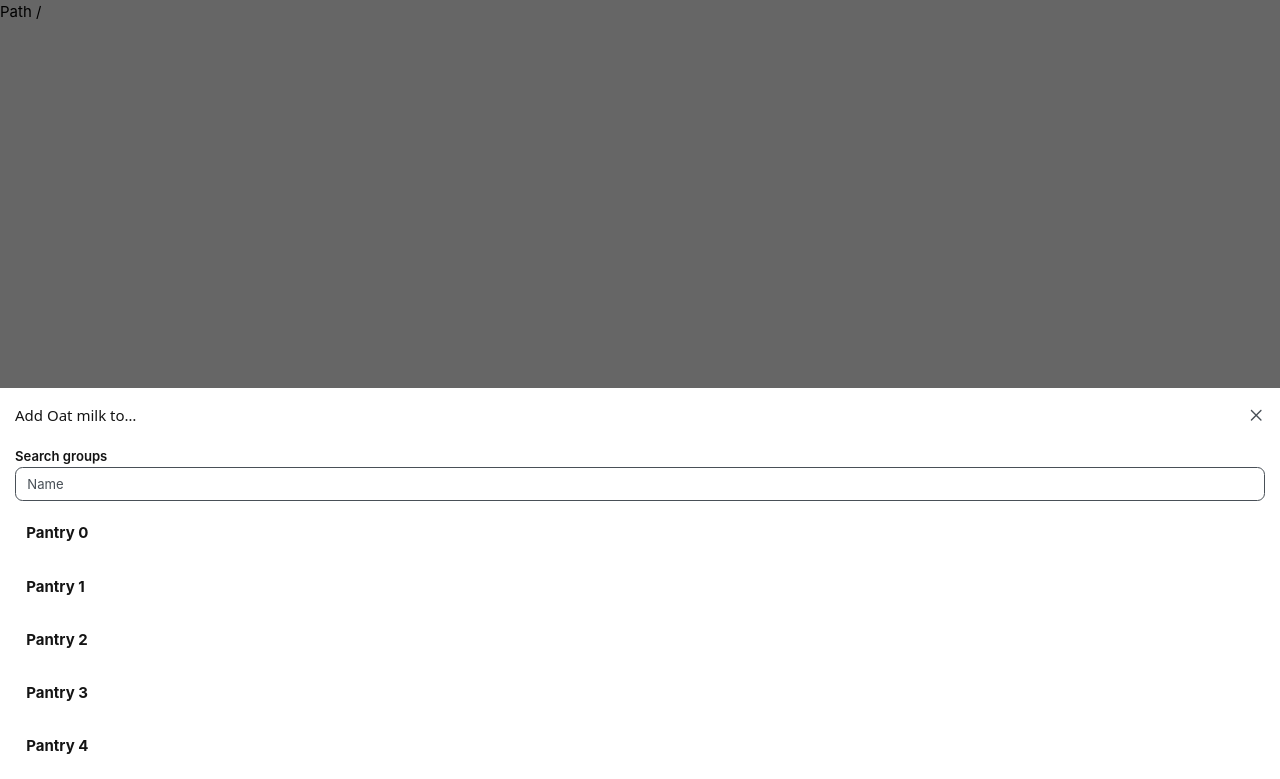
Test: AddToGroupSheet › filters the group list
The image size is (1280, 779).
Type "zuc" into the field labelled "Search groups" at (640, 484), box [15, 467, 1265, 501]
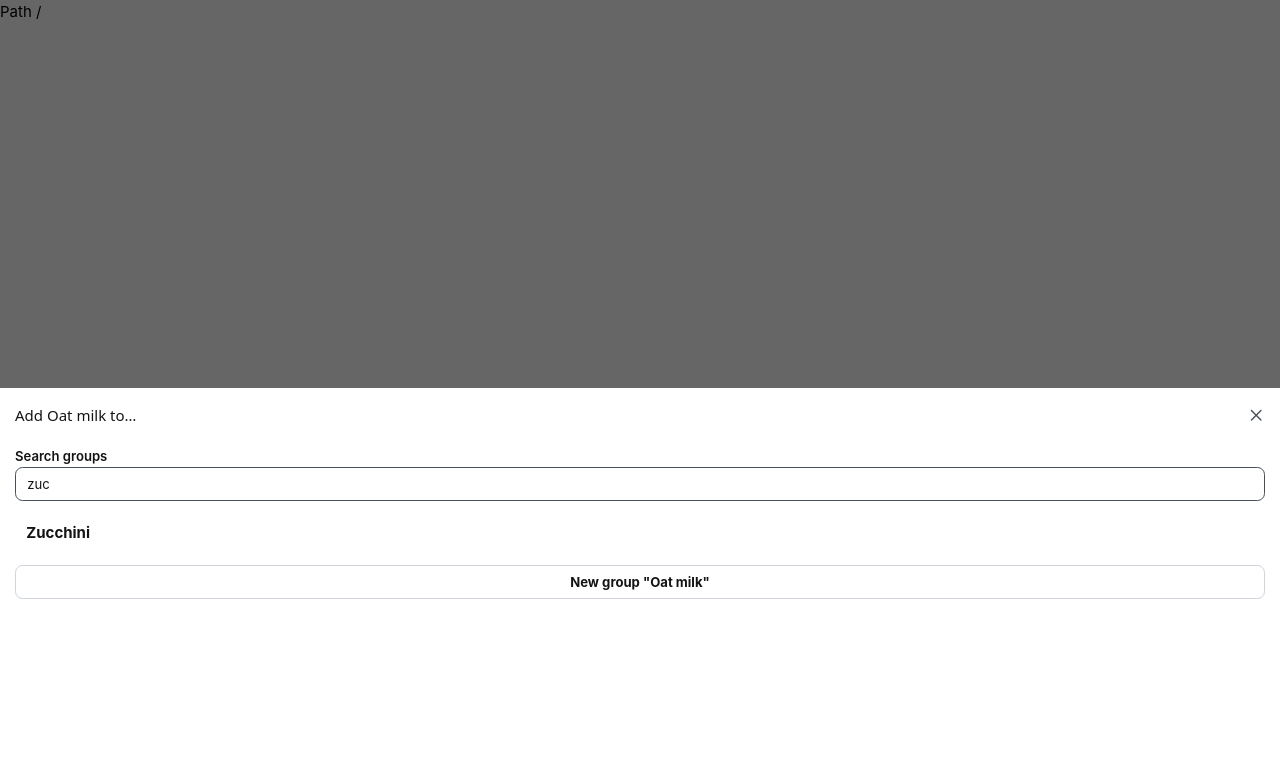
expect the button "Zucchini" is shown: met, box [15, 512, 1265, 554]
expect the button "Pantry 0" is gone: met
Replace the text in the field labelled "Search groups" with "missing" at (640, 484), box [15, 467, 1265, 501]
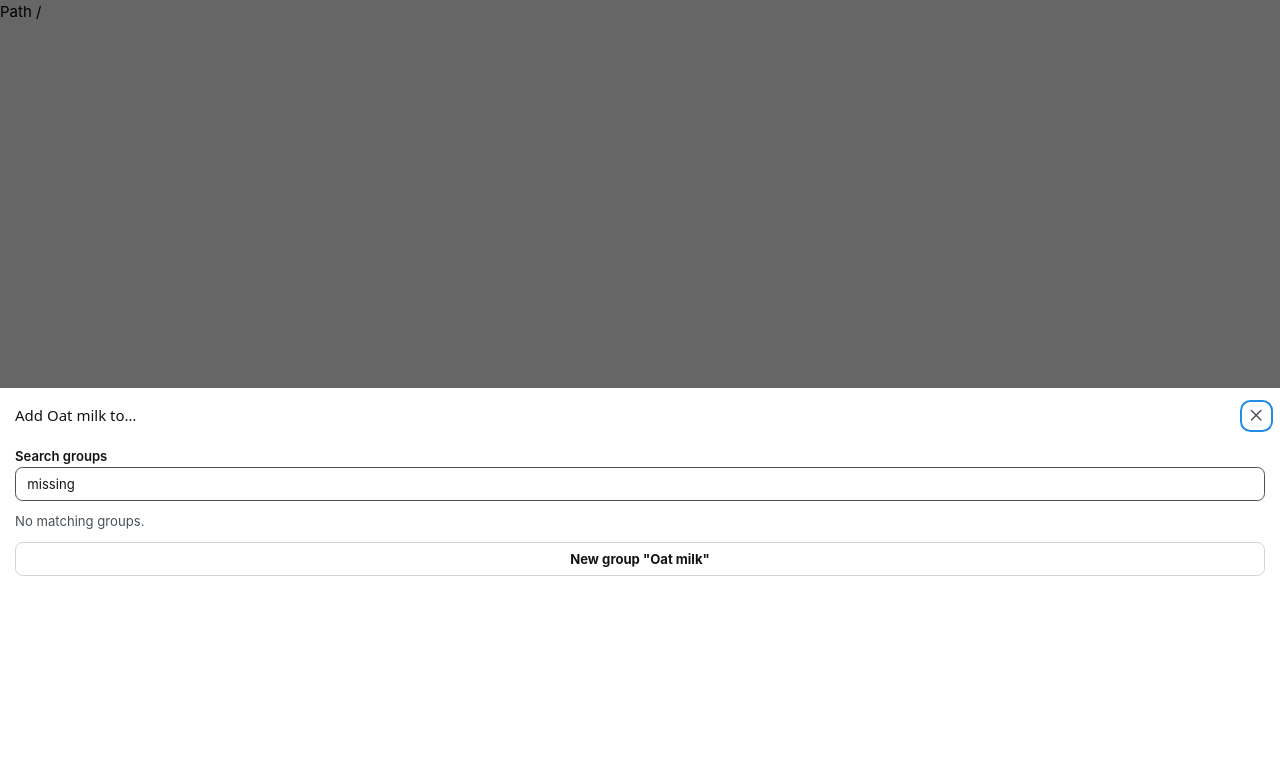
expect the button "New group \"Oat milk\"" is shown: met, box [15, 542, 1265, 576]
expect the text "No matching groups." is shown: met, box [15, 513, 144, 529]
